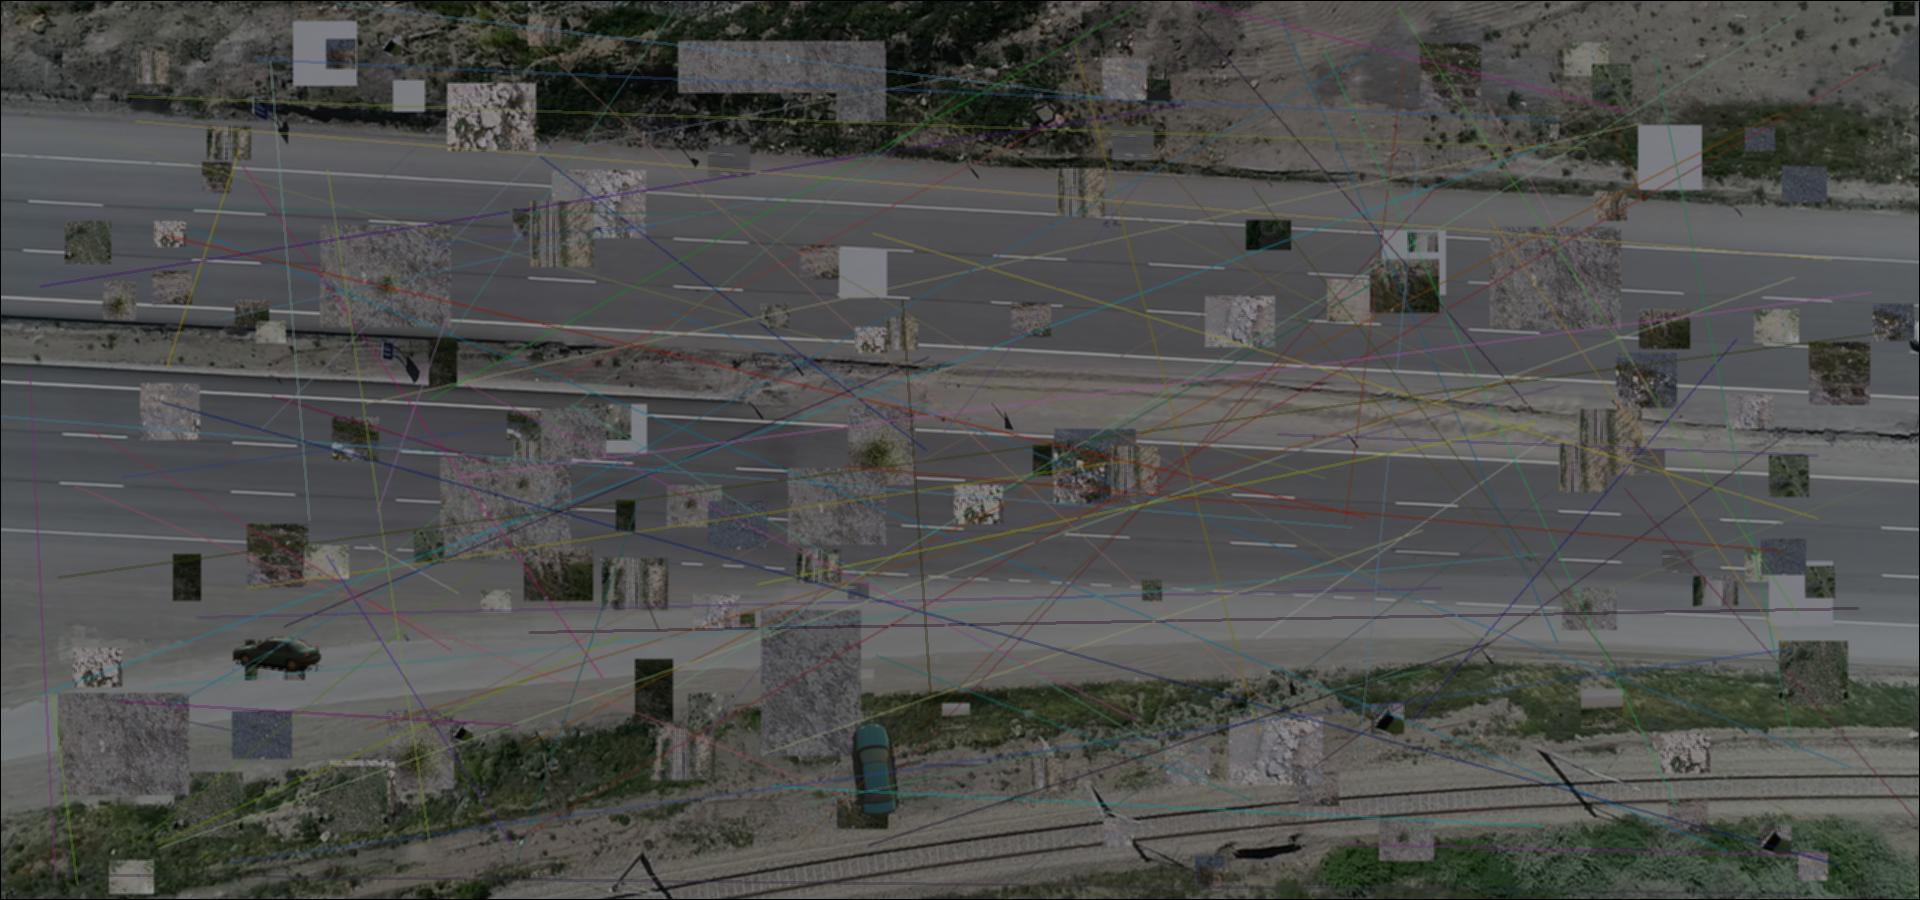arac: (851, 722, 901, 817), (233, 636, 322, 672)
